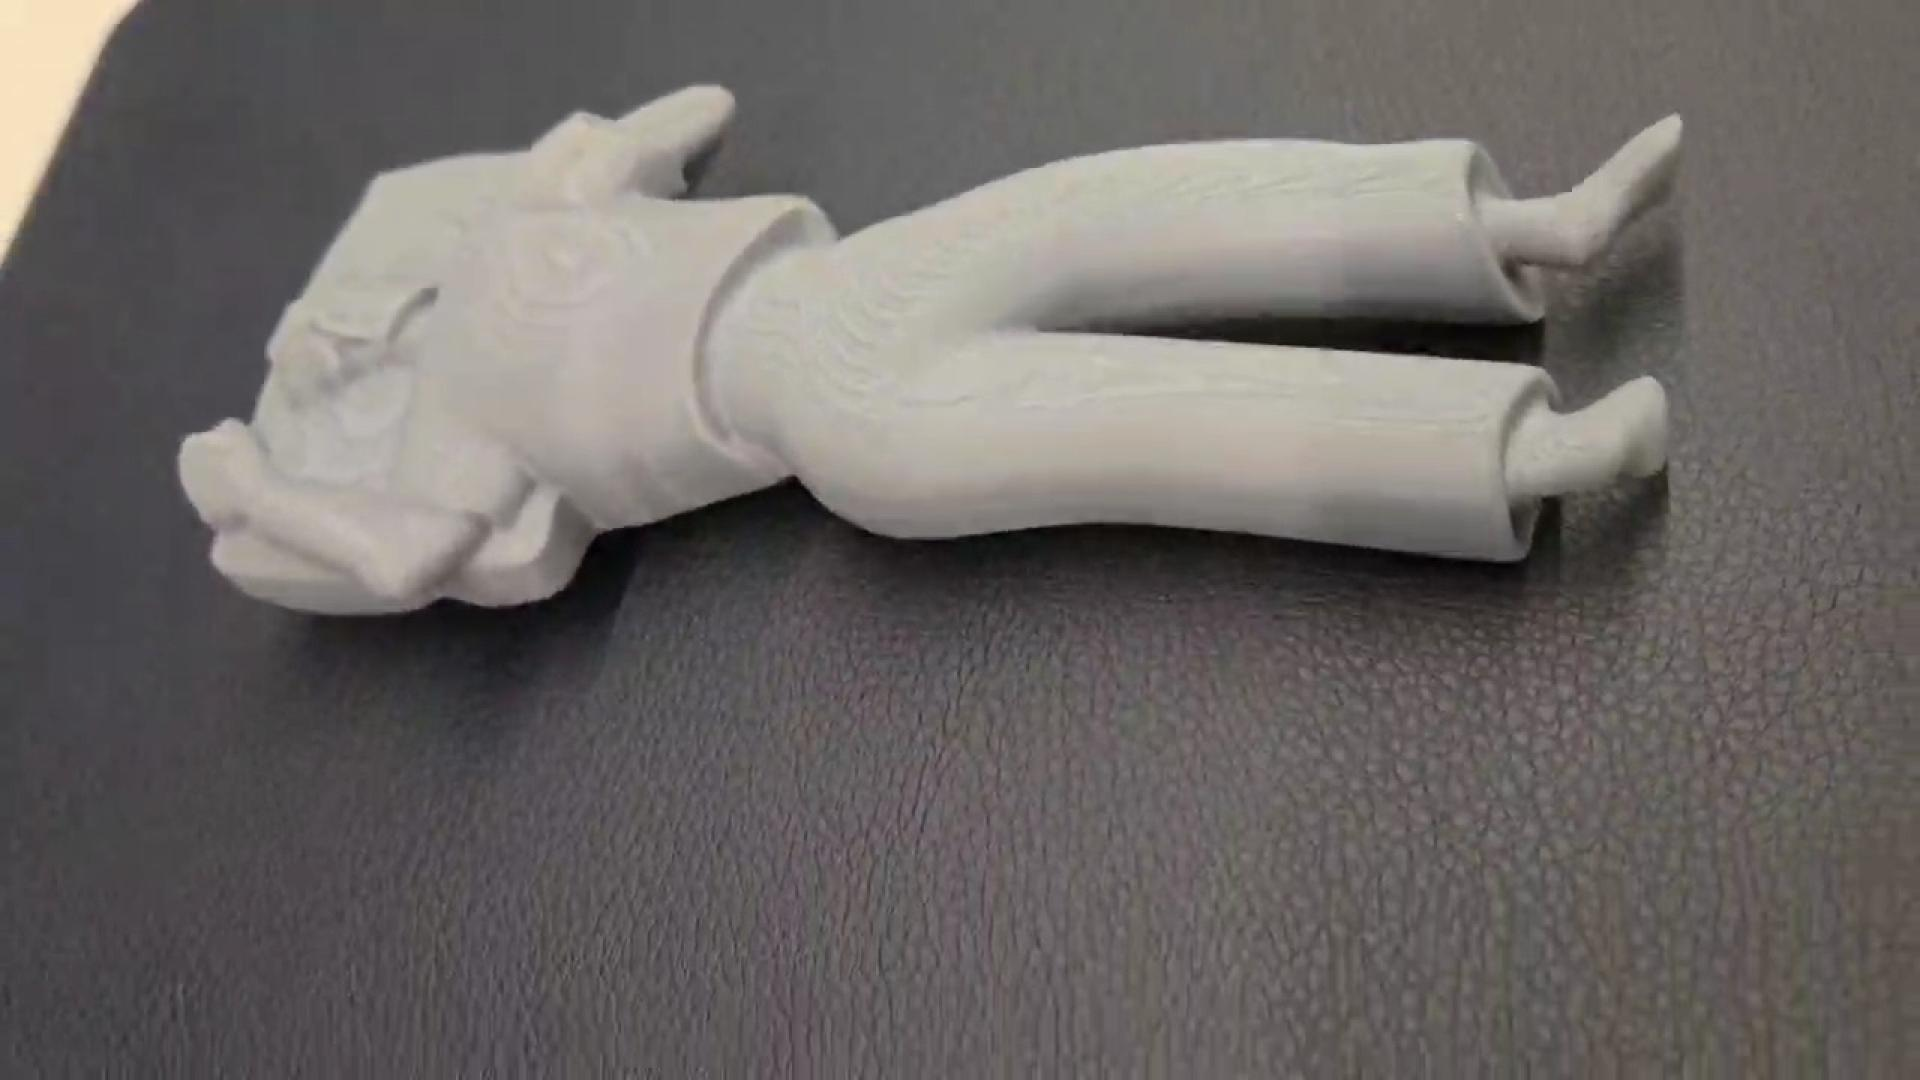Bad-style: (167, 91, 1692, 646)
